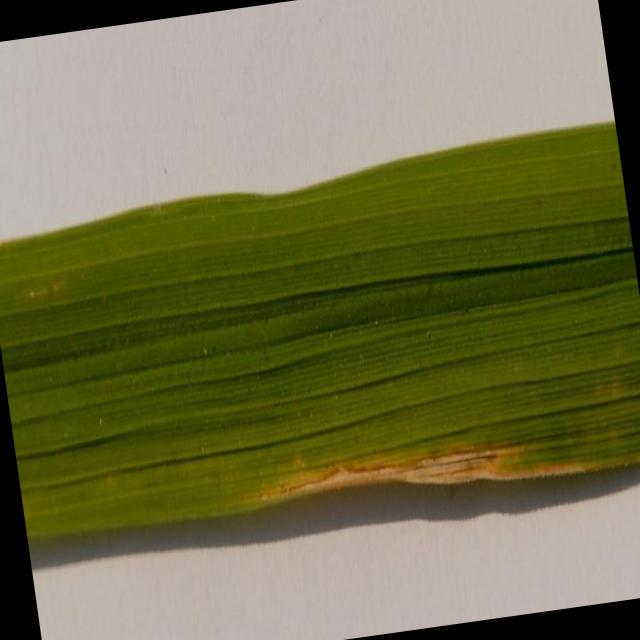Rice_Bacterial_Blight: (207, 360, 619, 569)
